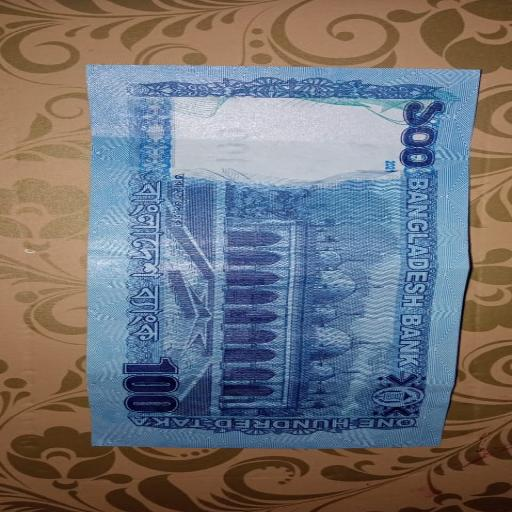100taka: (85, 61, 476, 448)
